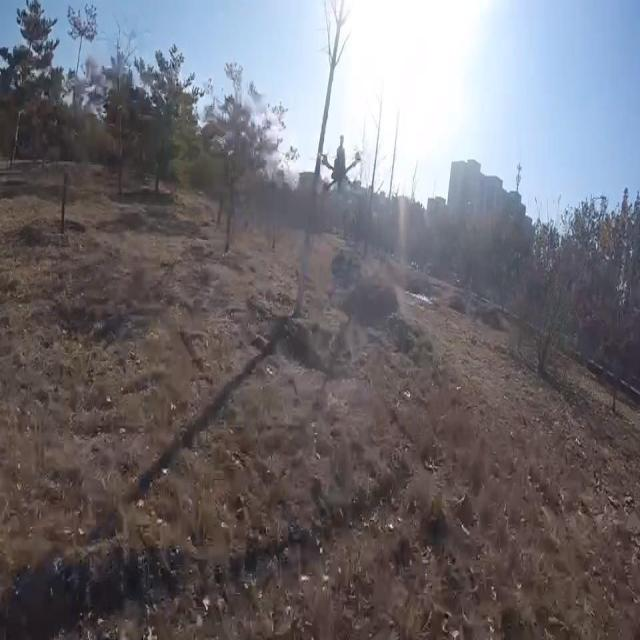drone: (315, 126, 360, 202)
